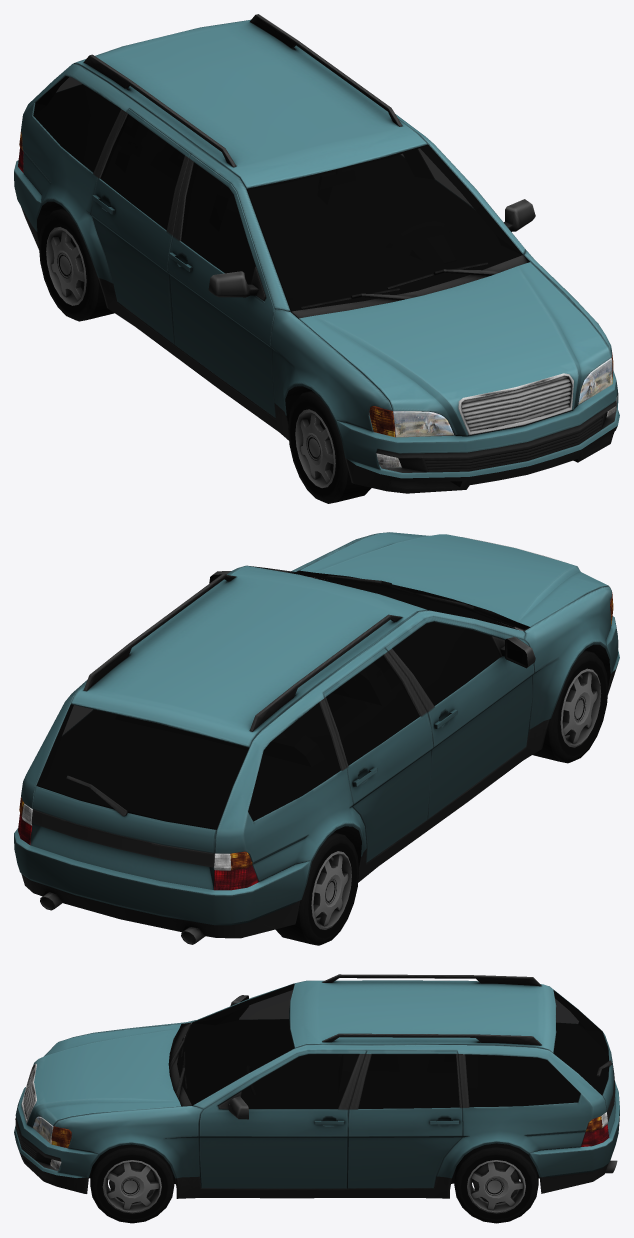
The model's file is car_wagon.glb.
The picture shows the model from 3 angles, top to bottom: view 1: azimuth 30°, elevation 25°; view 2: azimuth 150°, elevation 25°; view 3: azimuth 270°, elevation 25°; orthographic projection. The views are drawn at different scales.
Visible parts, largest first — view 1: Wagon_Body, Wheel_A002_Wheel_0_1, Wheel_A003_Wheel_0_1; view 2: Wagon_Body, Wheel_A003_Wheel_0_1, Wheel_A002_Wheel_0_1; view 3: Wagon_Body, Wheel_A001_Wheel_0_1, Wheel_A_Wheel_0_1.
Part boxes in pixels (x1,y1,x2,y2): Wagon_Body: (14, 14, 619, 493); Wheel_A002_Wheel_0_1: (288, 391, 371, 503); Wheel_A003_Wheel_0_1: (39, 208, 114, 321); Wagon_Body: (14, 532, 619, 944); Wheel_A003_Wheel_0_1: (275, 832, 359, 945); Wheel_A002_Wheel_0_1: (533, 650, 608, 763); Wagon_Body: (14, 974, 619, 1198); Wheel_A001_Wheel_0_1: (454, 1143, 538, 1223); Wheel_A_Wheel_0_1: (90, 1144, 174, 1223).
Bounding box in the file's own units: 1.95 × 1.38 × 4.38.
Materials: 4 (3 with a texture image).
